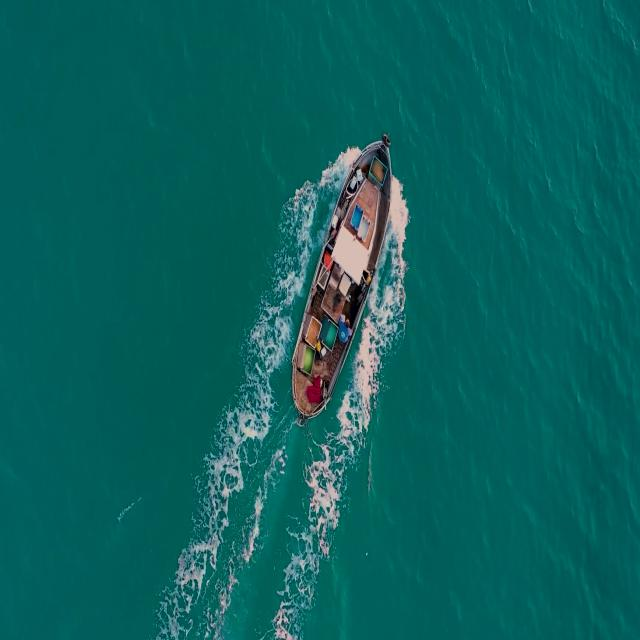ship: (290, 130, 394, 421)
